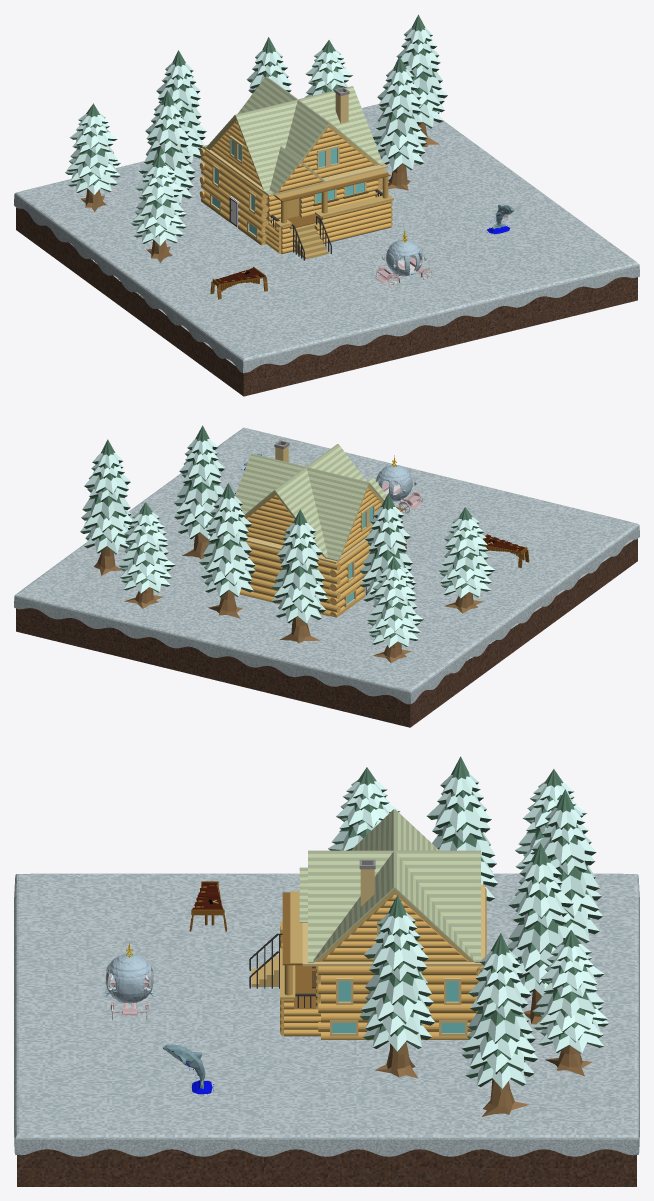
3 views of the same model, one above another, from view 1: azimuth 30°, elevation 25°; view 2: azimuth 150°, elevation 25°; view 3: azimuth 270°, elevation 25° (orthographic). The views are drawn at different scales.
Parts seen in each view (by area): view 1: Cube.003, Cube.1516, VEHICLES_FANTASY_CARRIAGE, OBJRANDOM_MARIMBA; view 2: Cube.003, Cube.1516, VEHICLES_FANTASY_CARRIAGE, OBJRANDOM_MARIMBA; view 3: Cube.003, Cube.1516, VEHICLES_FANTASY_CARRIAGE, OBJRANDOM_MARIMBA, ANIMAL_DELFIN.
Part boxes in pixels (bbox=[...]): Cube.003: bbox=[14, 14, 639, 396]; Cube.1516: bbox=[199, 76, 393, 260]; VEHICLES_FANTASY_CARRIAGE: bbox=[375, 230, 432, 288]; OBJRANDOM_MARIMBA: bbox=[210, 266, 267, 299]; Cube.003: bbox=[14, 425, 639, 727]; Cube.1516: bbox=[235, 440, 407, 617]; VEHICLES_FANTASY_CARRIAGE: bbox=[376, 455, 423, 513]; OBJRANDOM_MARIMBA: bbox=[484, 534, 529, 567]; Cube.003: bbox=[14, 756, 639, 1186]; Cube.1516: bbox=[249, 809, 486, 1039]; VEHICLES_FANTASY_CARRIAGE: bbox=[103, 943, 155, 1019]; OBJRANDOM_MARIMBA: bbox=[189, 881, 226, 931]; ANIMAL_DELFIN: bbox=[163, 1044, 214, 1094].
Size of the model in its own units: 4040 by 1670 by 4040.
Materials: 35 (4 with a texture image).
